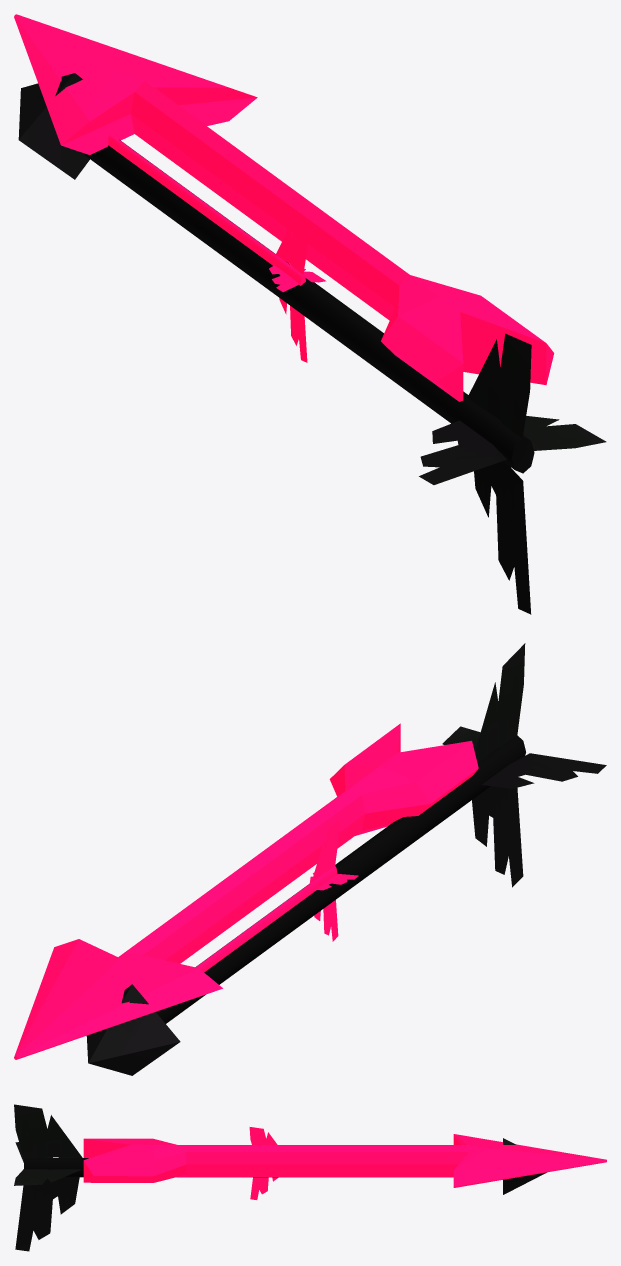
The model's file is Arrow_Ghoul Variant.fbx.
3 renders of one model, top to bottom at view 1: azimuth 30°, elevation 25°; view 2: azimuth 150°, elevation 25°; view 3: azimuth 270°, elevation 25°, orthographic. The views are drawn at different scales.
Visible parts, largest first — view 1: PulseMin, arrow, Pulse; view 2: PulseMin, arrow, Pulse; view 3: PulseMin, arrow, Pulse.
Boxes of the visible parts, <box> form: PulseMin: <box>14,14,554,401</box>; arrow: <box>18,73,606,614</box>; Pulse: <box>108,133,326,362</box>; PulseMin: <box>14,723,478,1059</box>; arrow: <box>86,643,606,1075</box>; Pulse: <box>196,820,358,972</box>; PulseMin: <box>83,1134,606,1187</box>; arrow: <box>14,1104,546,1251</box>; Pulse: <box>249,1127,278,1199</box>.
Bounding box in the file's own units: 0.4806 × 0.5341 × 1.95.
